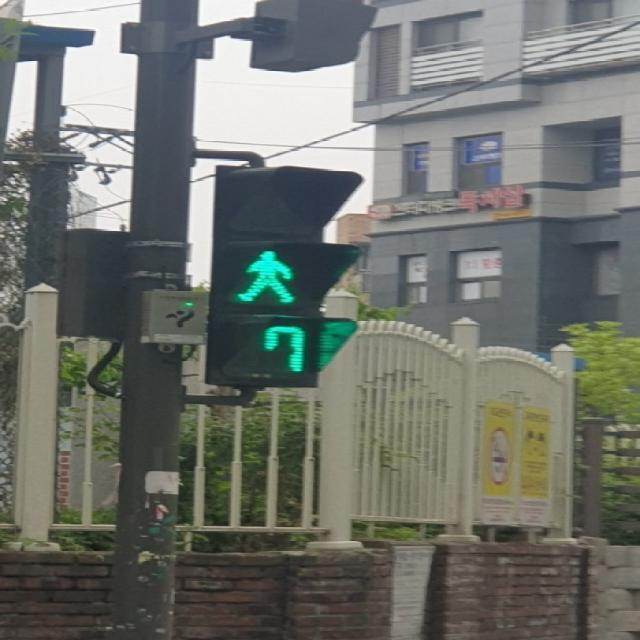green_light: (236, 246, 319, 374)
